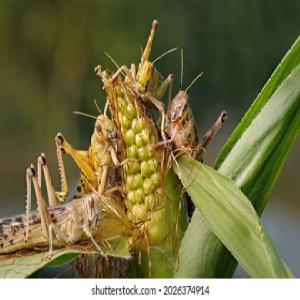locust: (1, 161, 99, 265), (119, 36, 202, 98)
